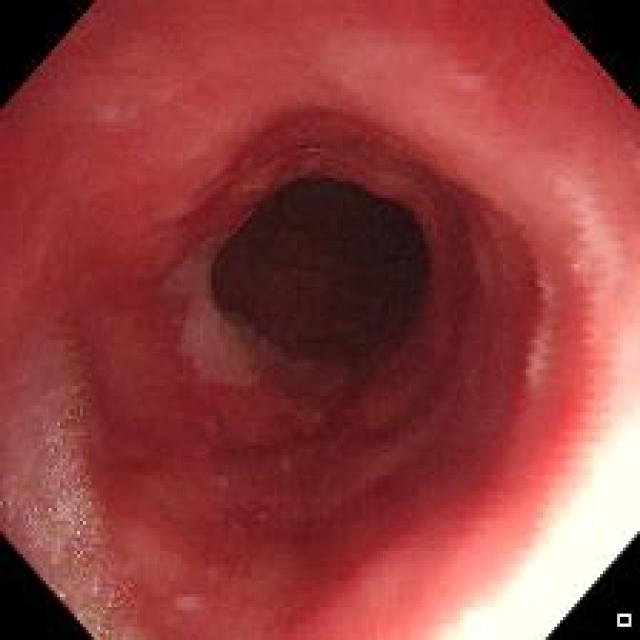color misalignment: (2, 359, 144, 640), (533, 268, 551, 313), (569, 254, 589, 276), (616, 613, 631, 629)
contrast: (256, 190, 422, 326)
saturation: (432, 391, 638, 640)
